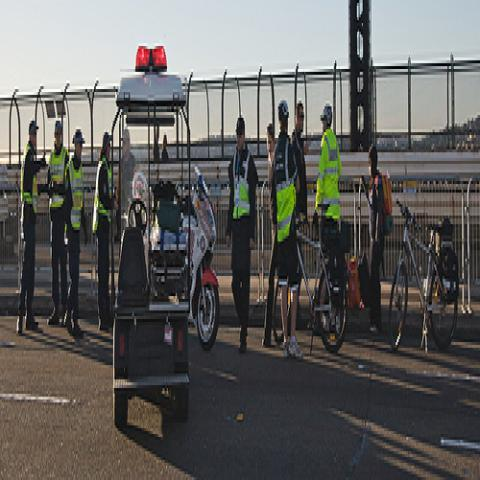motorcycle: (190, 162, 220, 352)
